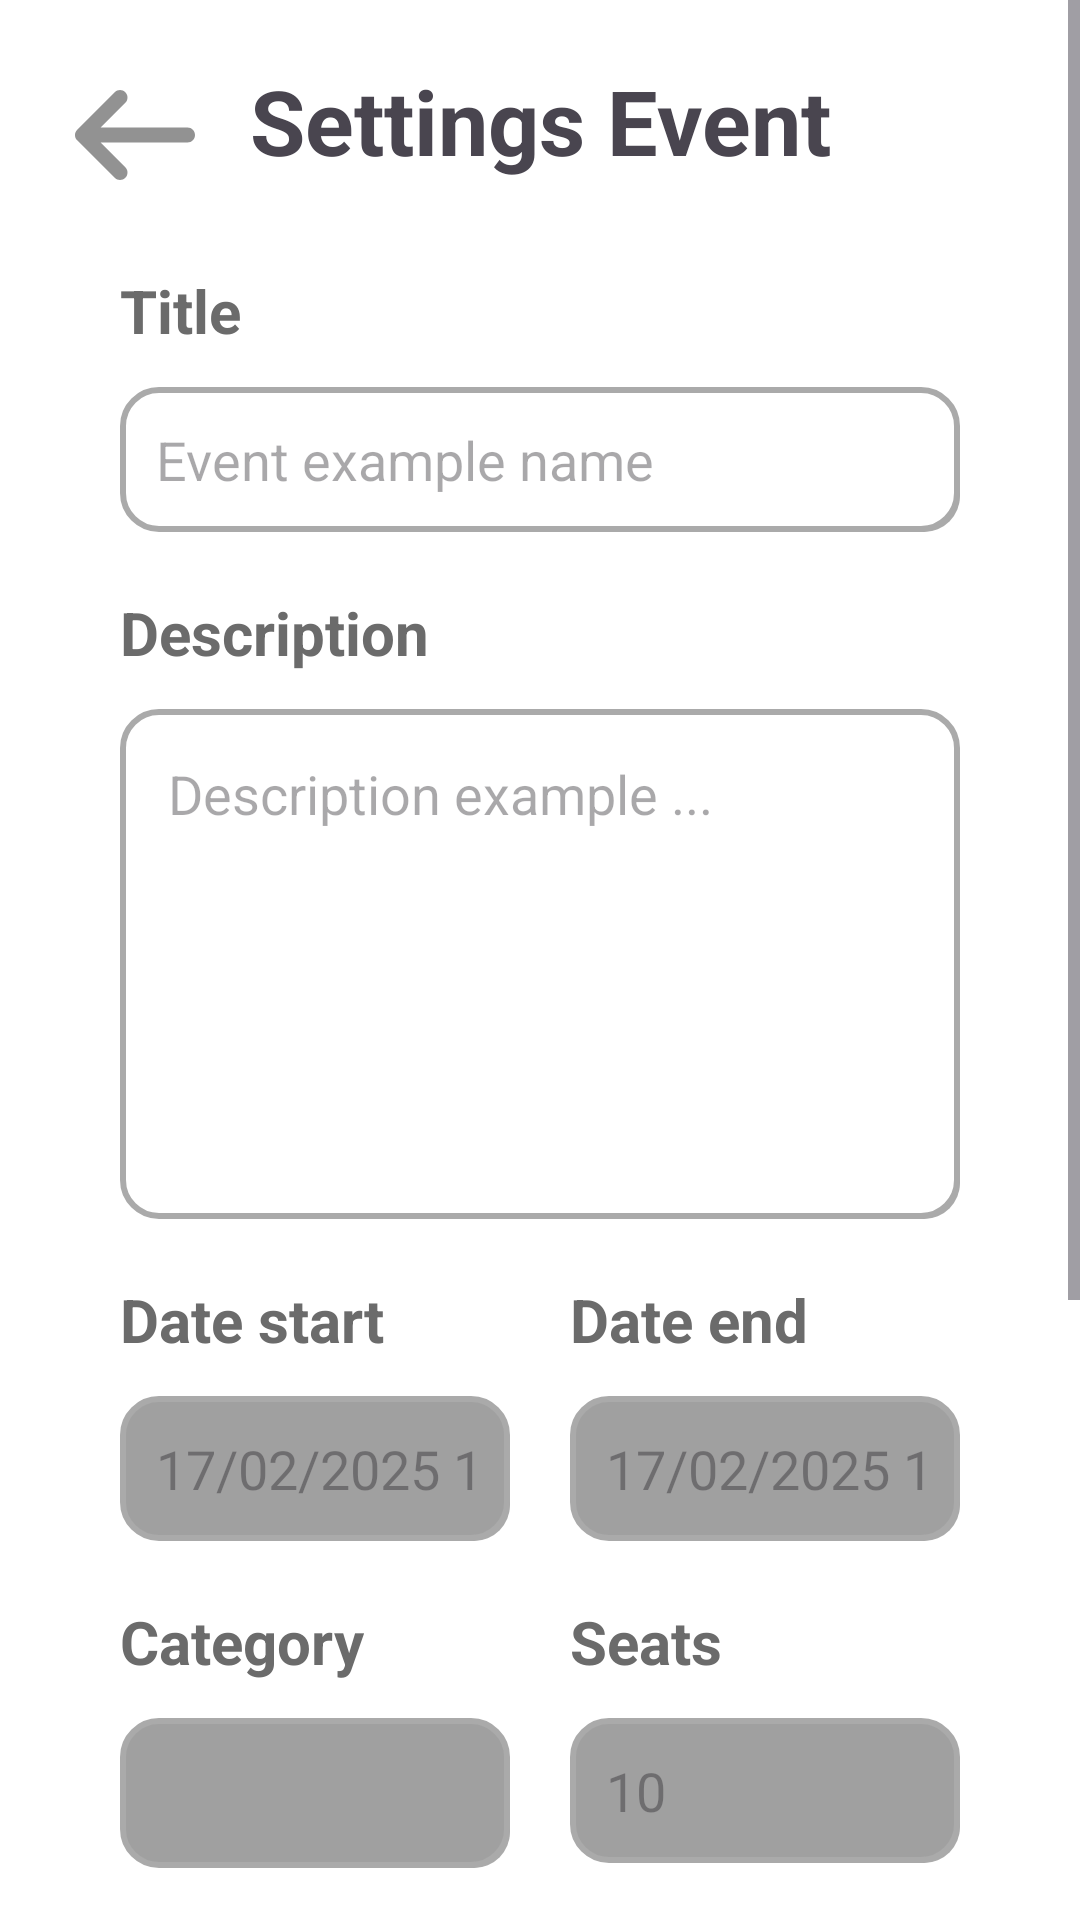

Icons on this 1080 x 1920 Android screen, each with its box as box=[x1, y1, x2, y2]:
arrow left: box=[75, 90, 195, 180]
